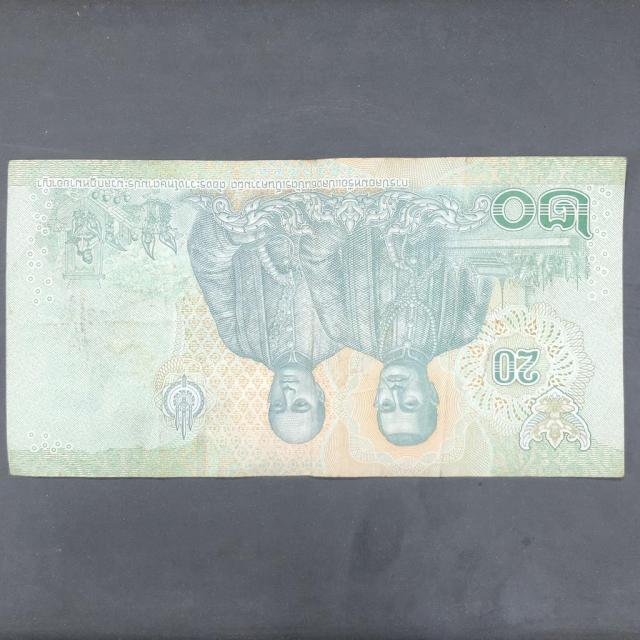THAI20: (6, 159, 627, 481)
